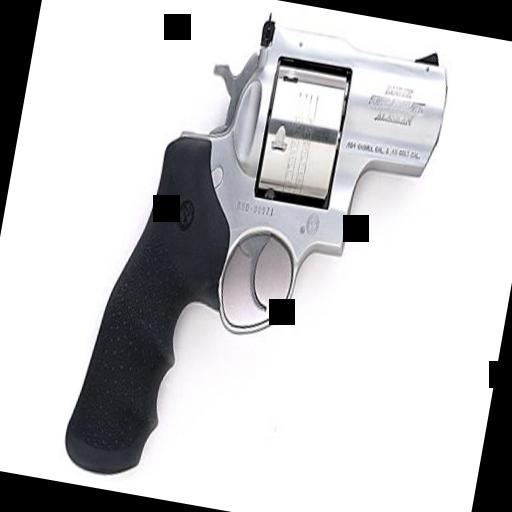Handgun: (50, 0, 454, 512)
